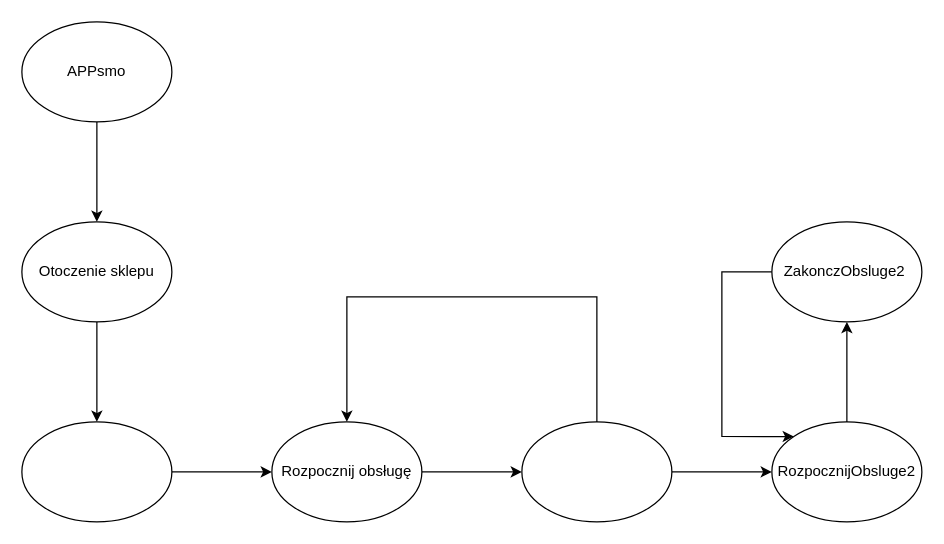
The diagram is 944 pixels wide and 544 high, and some of its shapes have lost their labels. The shapes that lost their labels are listed below. From the top down, each one's centre as x and y in pixels, then its label:
At (96,471): "Przybycie klienta".
At (596,471): "ZakonczonczObsluge".
